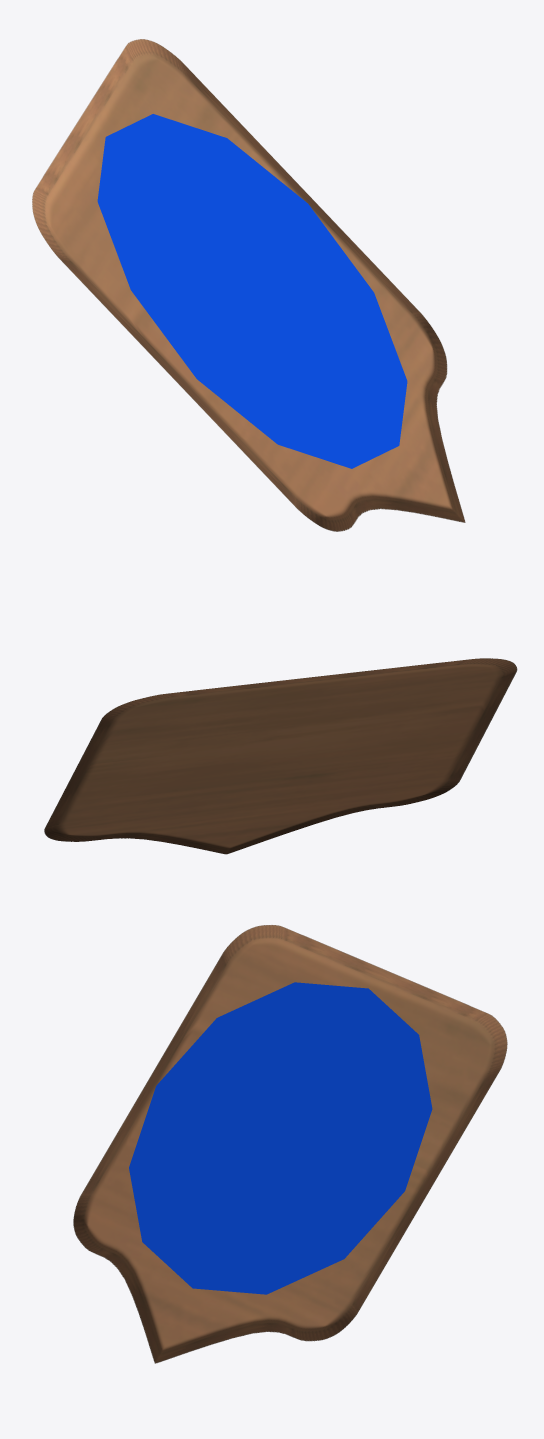
File: PlayerIcon_SM.fbx
3 views of the same model, one above another, from view 1: azimuth 30°, elevation 25°; view 2: azimuth 150°, elevation 25°; view 3: azimuth 270°, elevation 25° (orthographic). The views are drawn at different scales.
Parts seen in each view (by area): view 1: pCylinder27; view 2: pCylinder27; view 3: pCylinder27.
Part boxes in pixels (box(x1,y1,x2,y2)): pCylinder27: box(32, 39, 465, 531); pCylinder27: box(44, 658, 517, 854); pCylinder27: box(73, 925, 507, 1363).
Bounding box in the file's own units: 76.22 × 48.79 × 76.22.
